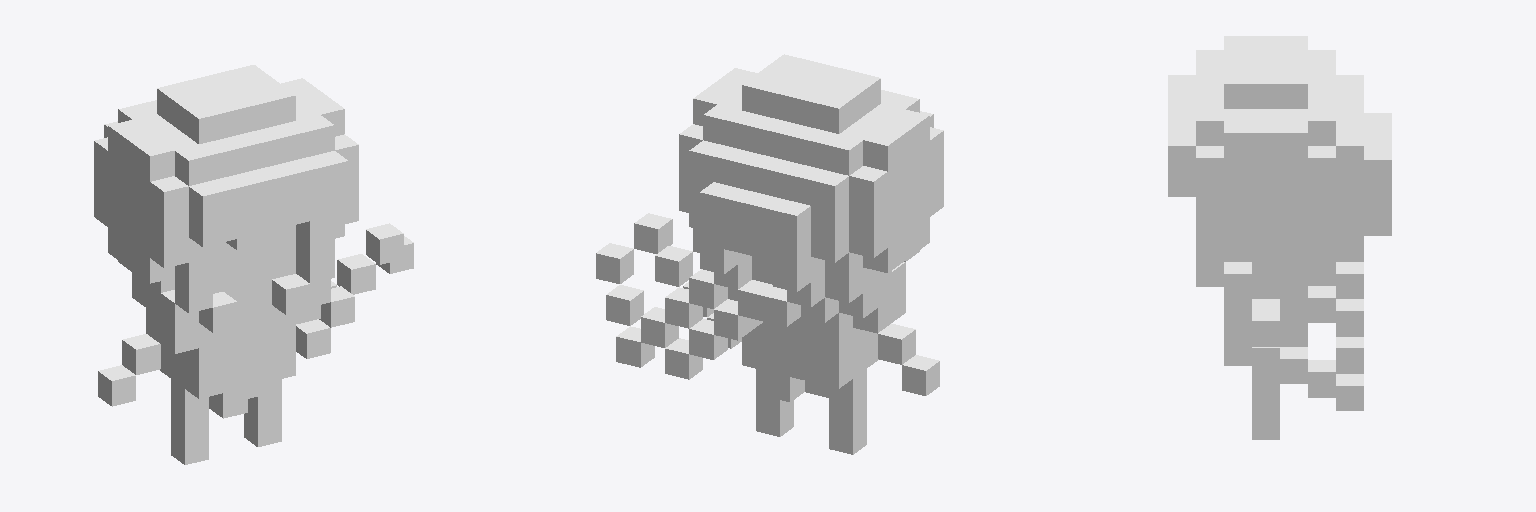
The model's file is chr_default.obj.
3 renders of one model, left to right at view 1: azimuth 30°, elevation 25°; view 2: azimuth 150°, elevation 25°; view 3: azimuth 270°, elevation 25°, orthographic.
Parts seen in each view (by area): view 1: object 1; view 2: object 1; view 3: object 1.
Boxes of the visible parts, x1,y1,x2,y2 form: object 1: [94, 65, 413, 464]; object 1: [596, 54, 943, 454]; object 1: [1168, 36, 1391, 439].
Bounding box in the file's own units: 1.3 × 1.4 × 0.8.